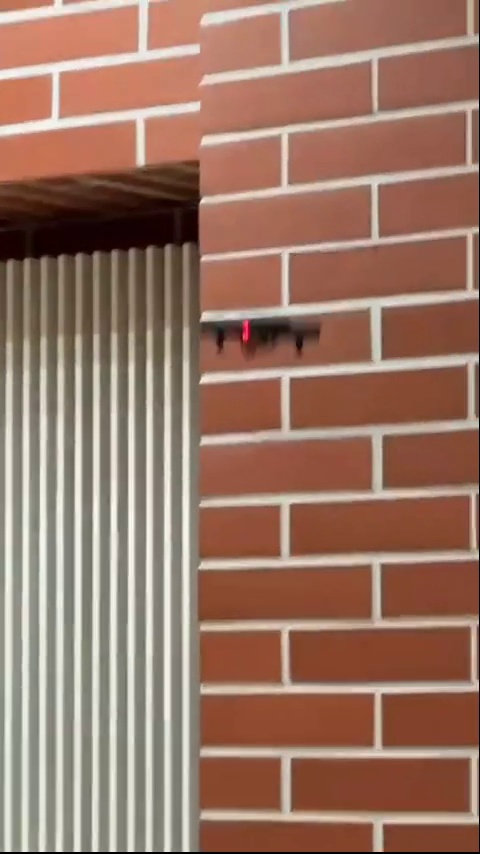drone: (196, 308, 331, 365)
